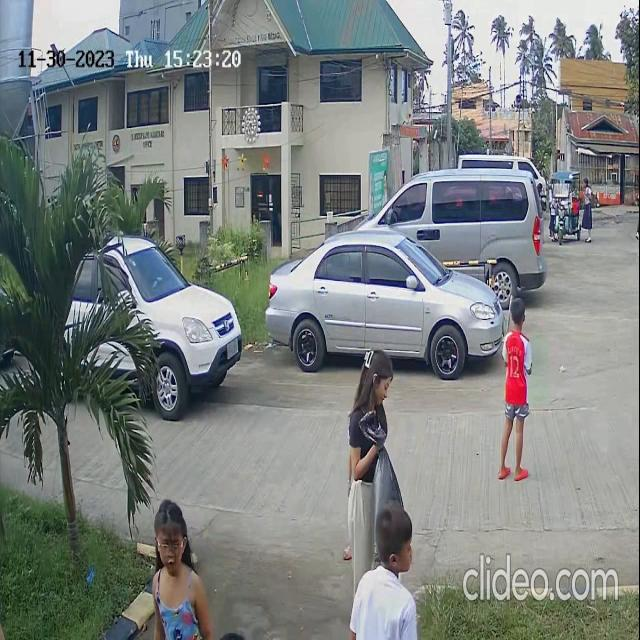person: (143, 491, 201, 624), (364, 514, 417, 624), (344, 344, 394, 458), (502, 299, 531, 398)
